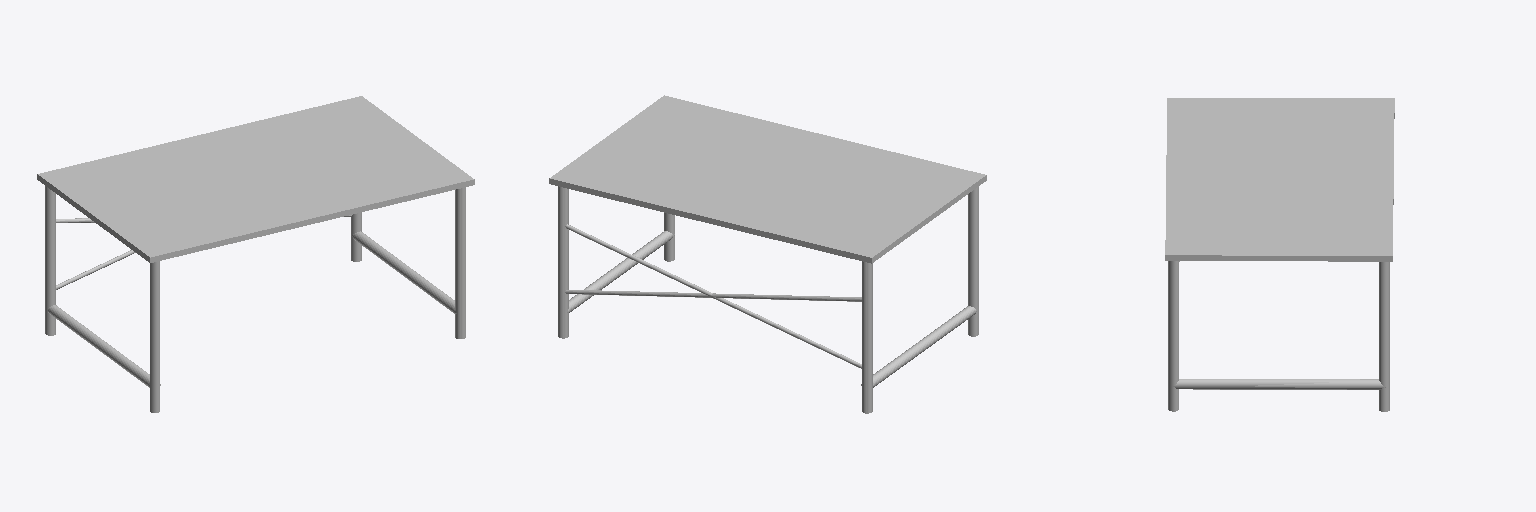
File: desk.obj
The picture shows the model from 3 angles: view 1: azimuth 30°, elevation 25°; view 2: azimuth 150°, elevation 25°; view 3: azimuth 270°, elevation 25°; orthographic projection.
Visible parts, largest first — view 1: table_Cube.001, back_leg_right_Cylinder.002, front_leg_left_Cylinder, back_leg_left_Cylinder.003, left_cross_leg_Cylinder.005, right_cross_leg_Cylinder.004; view 2: table_Cube.001, front_leg_left_Cylinder, front_leg_right_Cylinder.001, back_leg_left_Cylinder.003, back_cross_support1_Cylinder.006, right_cross_leg_Cylinder.004, back_cross_support2_Cylinder.007, left_cross_leg_Cylinder.005; view 3: table_Cube.001, left_cross_leg_Cylinder.005, back_leg_right_Cylinder.002, front_leg_right_Cylinder.001.
Part boxes in pixels (x1,y1,x2,y2): table_Cube.001: (37, 96, 474, 262); back_leg_right_Cylinder.002: (455, 187, 465, 338); front_leg_left_Cylinder: (45, 186, 55, 335); back_leg_left_Cylinder.003: (150, 261, 159, 412); left_cross_leg_Cylinder.005: (351, 231, 456, 313); right_cross_leg_Cylinder.004: (47, 305, 160, 387); table_Cube.001: (549, 95, 986, 263); front_leg_left_Cylinder: (862, 261, 872, 413); front_leg_right_Cylinder.001: (558, 186, 568, 338); back_leg_left_Cylinder.003: (968, 187, 978, 336); back_cross_support1_Cylinder.006: (565, 224, 861, 368); right_cross_leg_Cylinder.004: (861, 306, 976, 387); back_cross_support2_Cylinder.007: (565, 290, 861, 301); left_cross_leg_Cylinder.005: (567, 231, 674, 312); table_Cube.001: (1165, 98, 1394, 261); left_cross_leg_Cylinder.005: (1173, 379, 1385, 389); back_leg_right_Cylinder.002: (1168, 261, 1178, 411); front_leg_right_Cylinder.001: (1379, 262, 1389, 411).
Bounding box in the file's own units: 11.1 × 5.18 × 6.79.